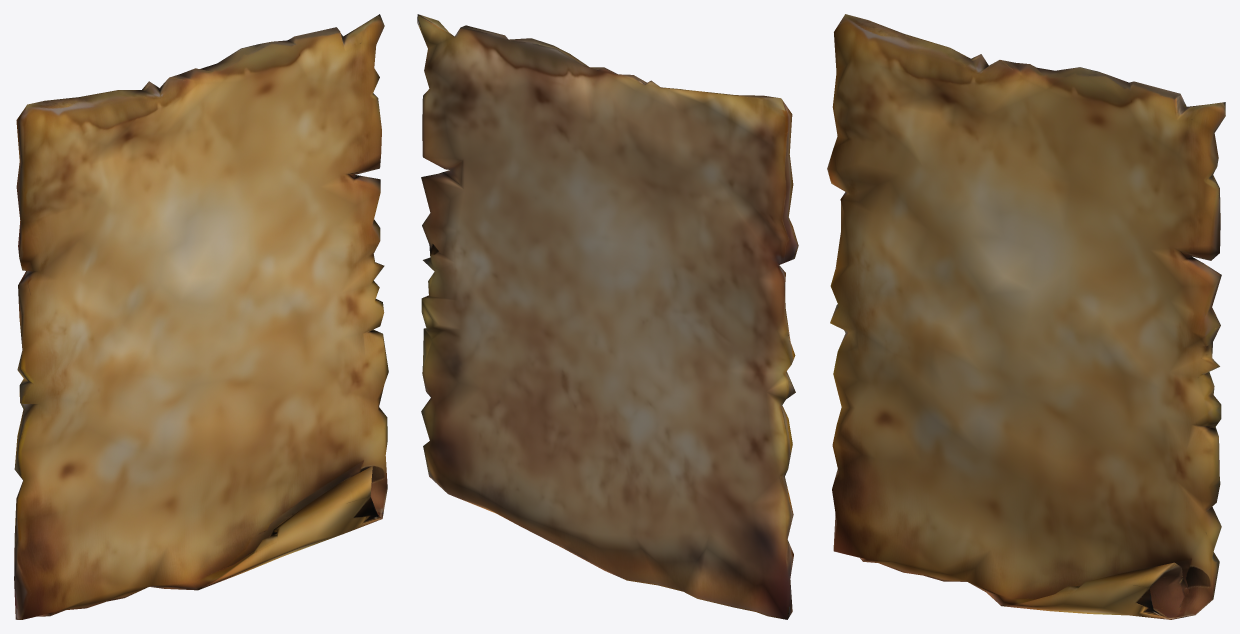
Rendered from Paper.glb.
3 views of the same model, side by side, from view 1: azimuth 30°, elevation 25°; view 2: azimuth 150°, elevation 25°; view 3: azimuth 330°, elevation 25° (orthographic). The views are drawn at different scales.
Bounding box in the file's own units: 1.44 × 1.91 × 0.2293.
Materials: 1 (1 with a texture image).
